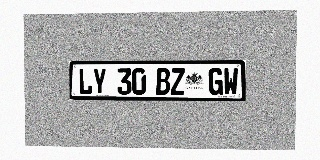0: (132, 68, 146, 95)
3: (117, 68, 131, 95)
B: (156, 68, 170, 95)
G: (208, 68, 223, 95)
L: (78, 68, 92, 95)
W: (223, 68, 238, 95)
Y: (93, 68, 106, 95)
Z: (171, 68, 185, 95)
